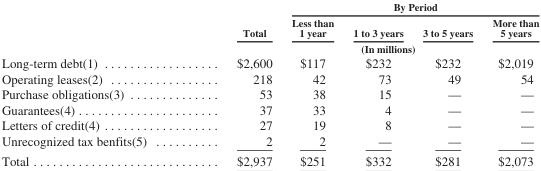table: (0, 0, 538, 168)
table column: (0, 0, 191, 168), (191, 0, 281, 168), (342, 0, 412, 168), (412, 0, 482, 168), (281, 0, 342, 168), (482, 0, 538, 168)
table column header: (0, 0, 538, 54)
table row: (0, 14, 538, 40), (0, 132, 538, 150), (0, 150, 538, 168), (0, 54, 538, 70), (0, 70, 538, 86), (0, 101, 538, 117), (0, 86, 538, 101), (0, 117, 538, 132), (0, 0, 538, 14), (0, 40, 538, 54)
table spanning cell: (191, 40, 538, 54), (191, 0, 281, 40), (281, 0, 538, 14)
